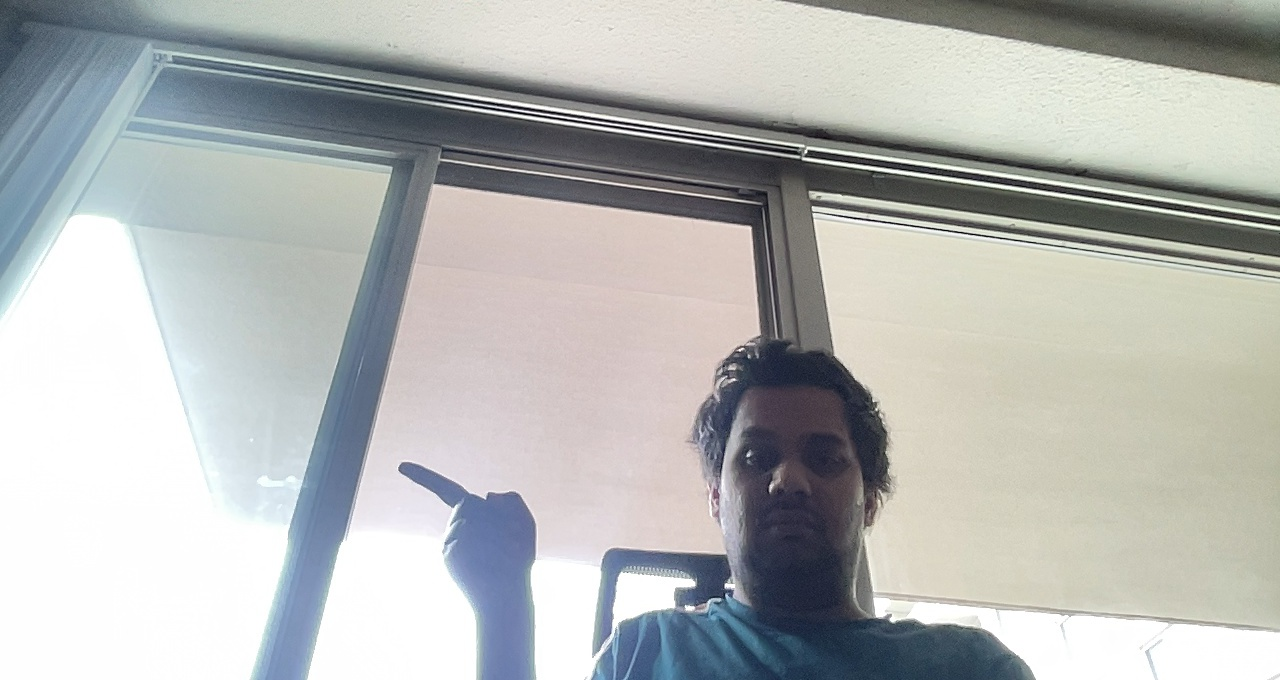fingerright: (386, 453, 543, 590)
